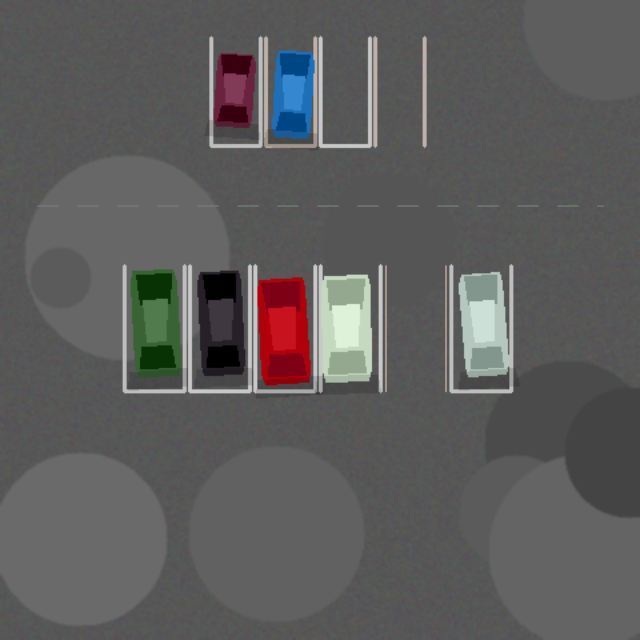space-empty: (385, 265, 445, 391), (320, 37, 369, 145), (375, 37, 424, 145)
space-occupied: (124, 265, 184, 391), (189, 265, 249, 391), (255, 265, 315, 391), (320, 265, 380, 391), (451, 265, 511, 391), (265, 37, 315, 145), (211, 37, 260, 145)
